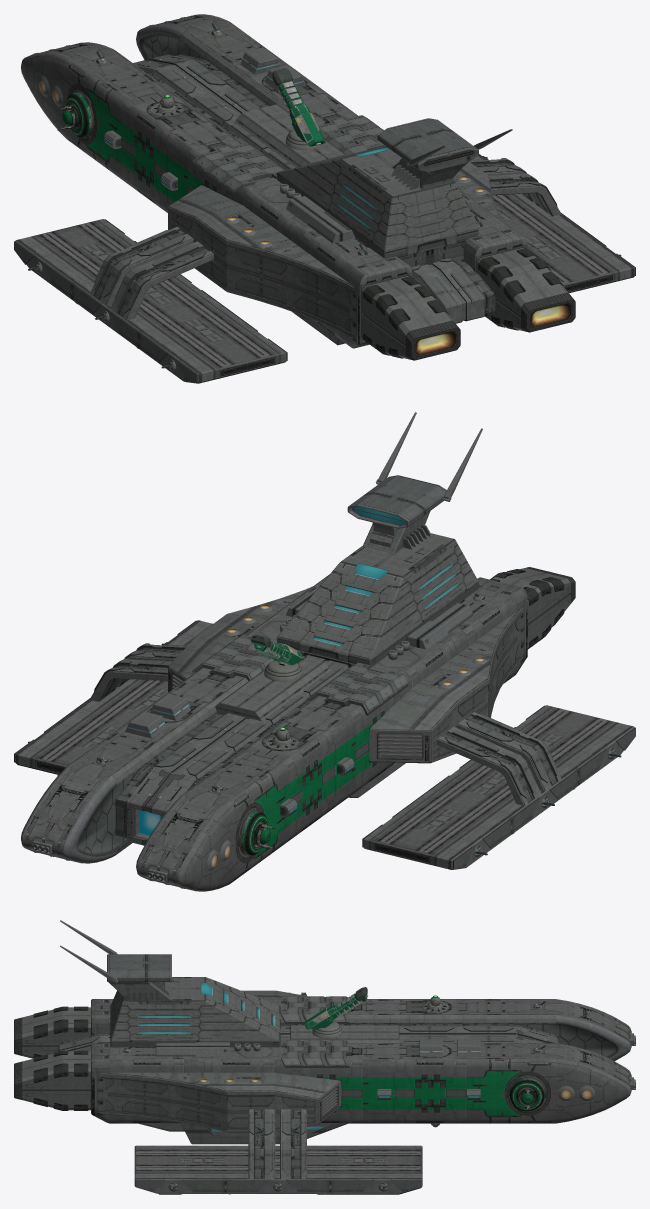
File: battleship.glb
3 renders of one model, top to bottom at view 1: azimuth 30°, elevation 25°; view 2: azimuth 150°, elevation 25°; view 3: azimuth 270°, elevation 25°, orthographic. The views are drawn at different scales.
Visible parts, largest first — view 1: detail_0, L_bay, R_bay, turret03-arms, platforms; view 2: detail_0, L_bay, R_bay, platforms, turret03-arms; view 3: detail_0, R_bay, platforms, turret03-arms.
Part boxes in pixels (left/top/right/bottom): detail_0: left=21, top=14, right=575, bottom=360; L_bay: left=14, top=219, right=287, bottom=383; R_bay: left=470, top=154, right=635, bottom=293; turret03-arms: left=272, top=68, right=325, bottom=146; platforms: left=65, top=92, right=322, bottom=149; detail_0: left=21, top=412, right=575, bottom=891; L_bay: left=362, top=705, right=635, bottom=869; R_bay: left=14, top=620, right=212, bottom=773; platforms: left=238, top=660, right=302, bottom=855; turret03-arms: left=251, top=634, right=304, bottom=665; detail_0: left=14, top=920, right=635, bottom=1144; R_bay: left=134, top=1109, right=422, bottom=1194; platforms: left=312, top=1003, right=547, bottom=1111; turret03-arms: left=304, top=987, right=367, bottom=1029.
Size of the model in its own units: 45.72 by 24.31 by 68.33.
13 materials, 11 textured.
